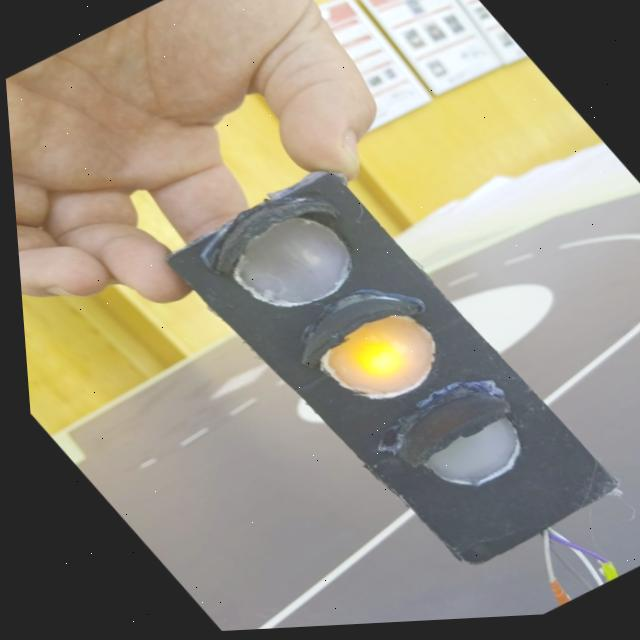trafic lights: (168, 172, 617, 564)
yellow: (322, 316, 435, 398)
